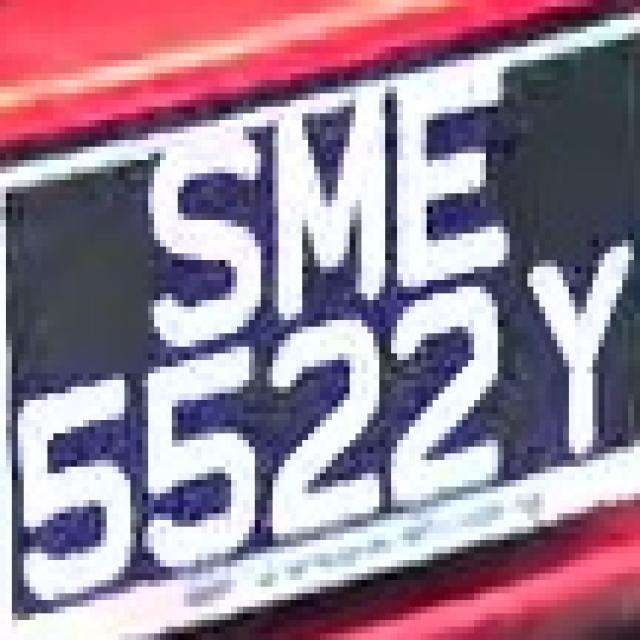2: (249, 300, 397, 547), (368, 287, 510, 500)
5: (125, 347, 266, 580), (0, 379, 136, 613)
E: (379, 47, 534, 293)
M: (261, 93, 385, 327)
S: (125, 107, 272, 333)
Y: (498, 234, 622, 474)
